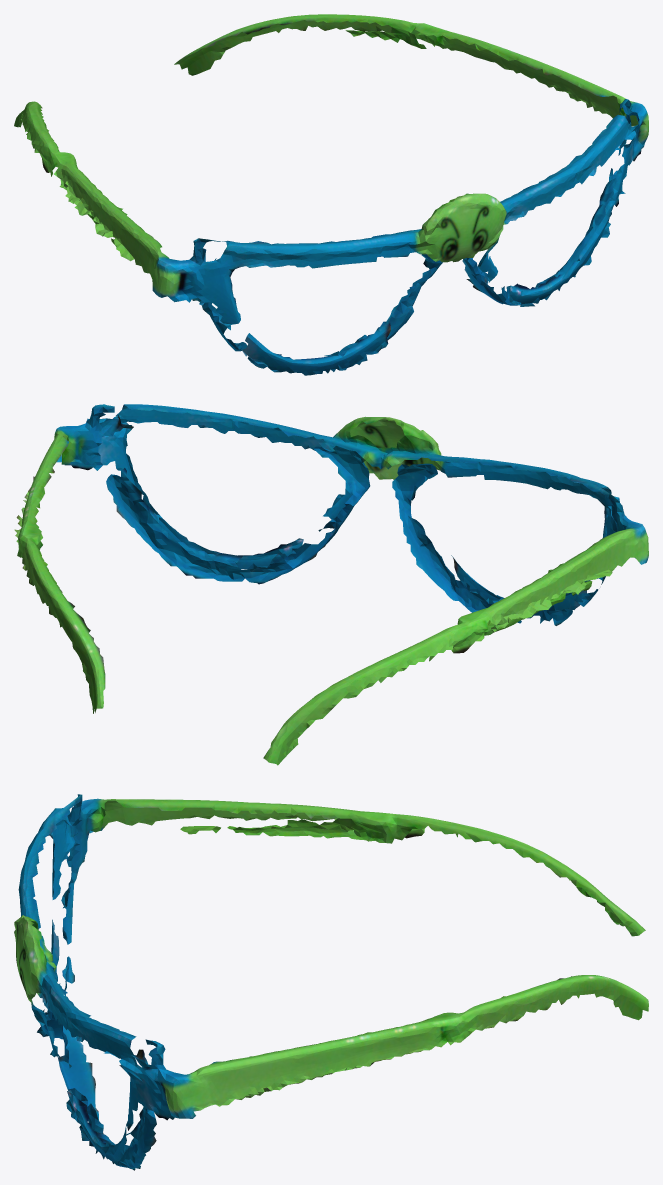
Rendered from scan_align.obj.
3 views of the same model, one above another, from view 1: azimuth 30°, elevation 25°; view 2: azimuth 150°, elevation 25°; view 3: azimuth 270°, elevation 25° (orthographic). The views are drawn at different scales.
Size of the model in its own units: 0.1466 by 0.0416 by 0.1382.
Materials: 1 (1 with a texture image).
